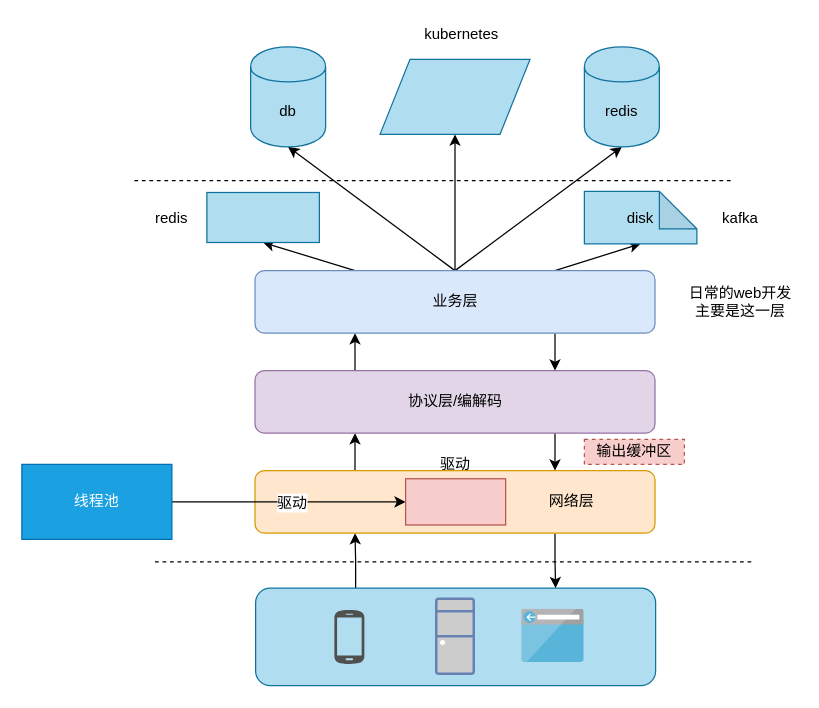
The diagram is 819 pixels wide and 708 high, and some of its shapes have lost their labels. Each missing label, with the centre of its shape:
"eventloop" belongs at point (455, 501).
"memory" belongs at point (262, 216).
"zk" belongs at point (454, 96).
